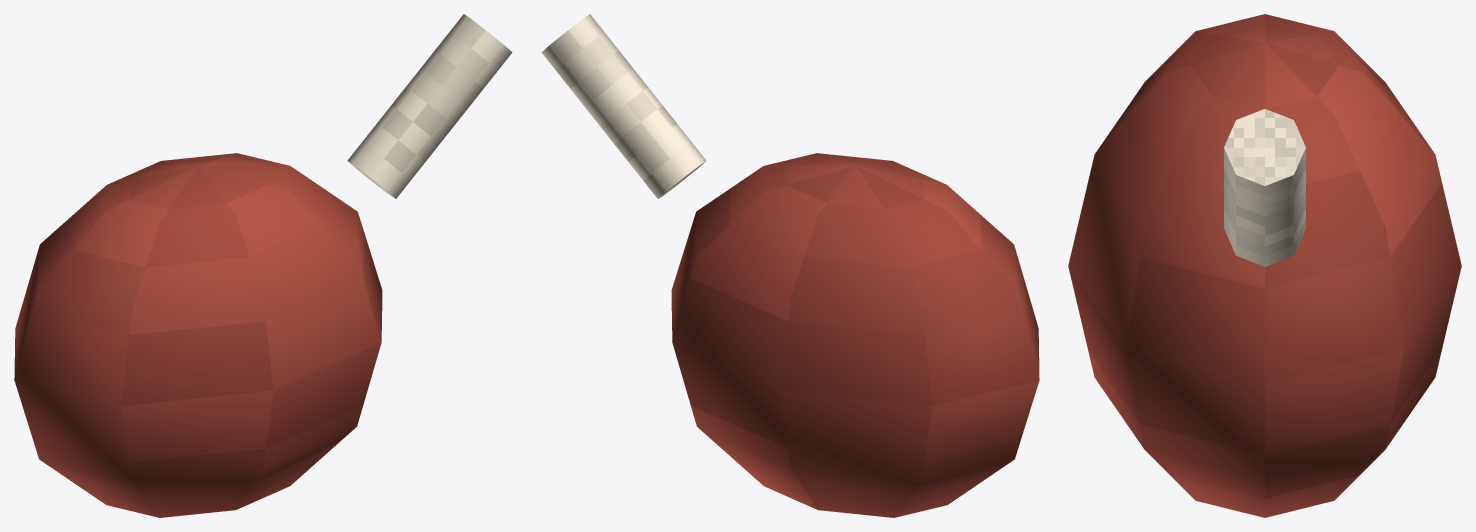
The model's file is carne.glb.
3 views of the same model, side by side, from view 1: azimuth 30°, elevation 25°; view 2: azimuth 150°, elevation 25°; view 3: azimuth 270°, elevation 25° (orthographic). The views are drawn at different scales.
Visible parts, largest first — view 1: carne; view 2: carne; view 3: carne.
Boxes of the visible parts, <box> form: carne: <box>14,14,512,517</box>; carne: <box>541,14,1039,517</box>; carne: <box>1068,14,1461,517</box>.
Size of the model in its own units: 0.91 by 0.7449 by 0.48.
Materials: 2 (2 with a texture image).
